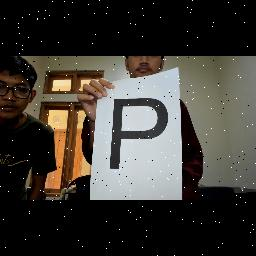p: (108, 92, 170, 176)
